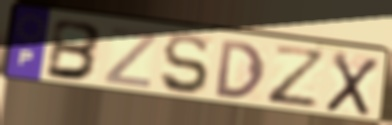B: (43, 17, 105, 83)
D: (214, 38, 267, 101)
S: (159, 32, 211, 97)
X: (322, 50, 382, 119)
Z: (265, 42, 330, 109), (102, 25, 160, 90)
